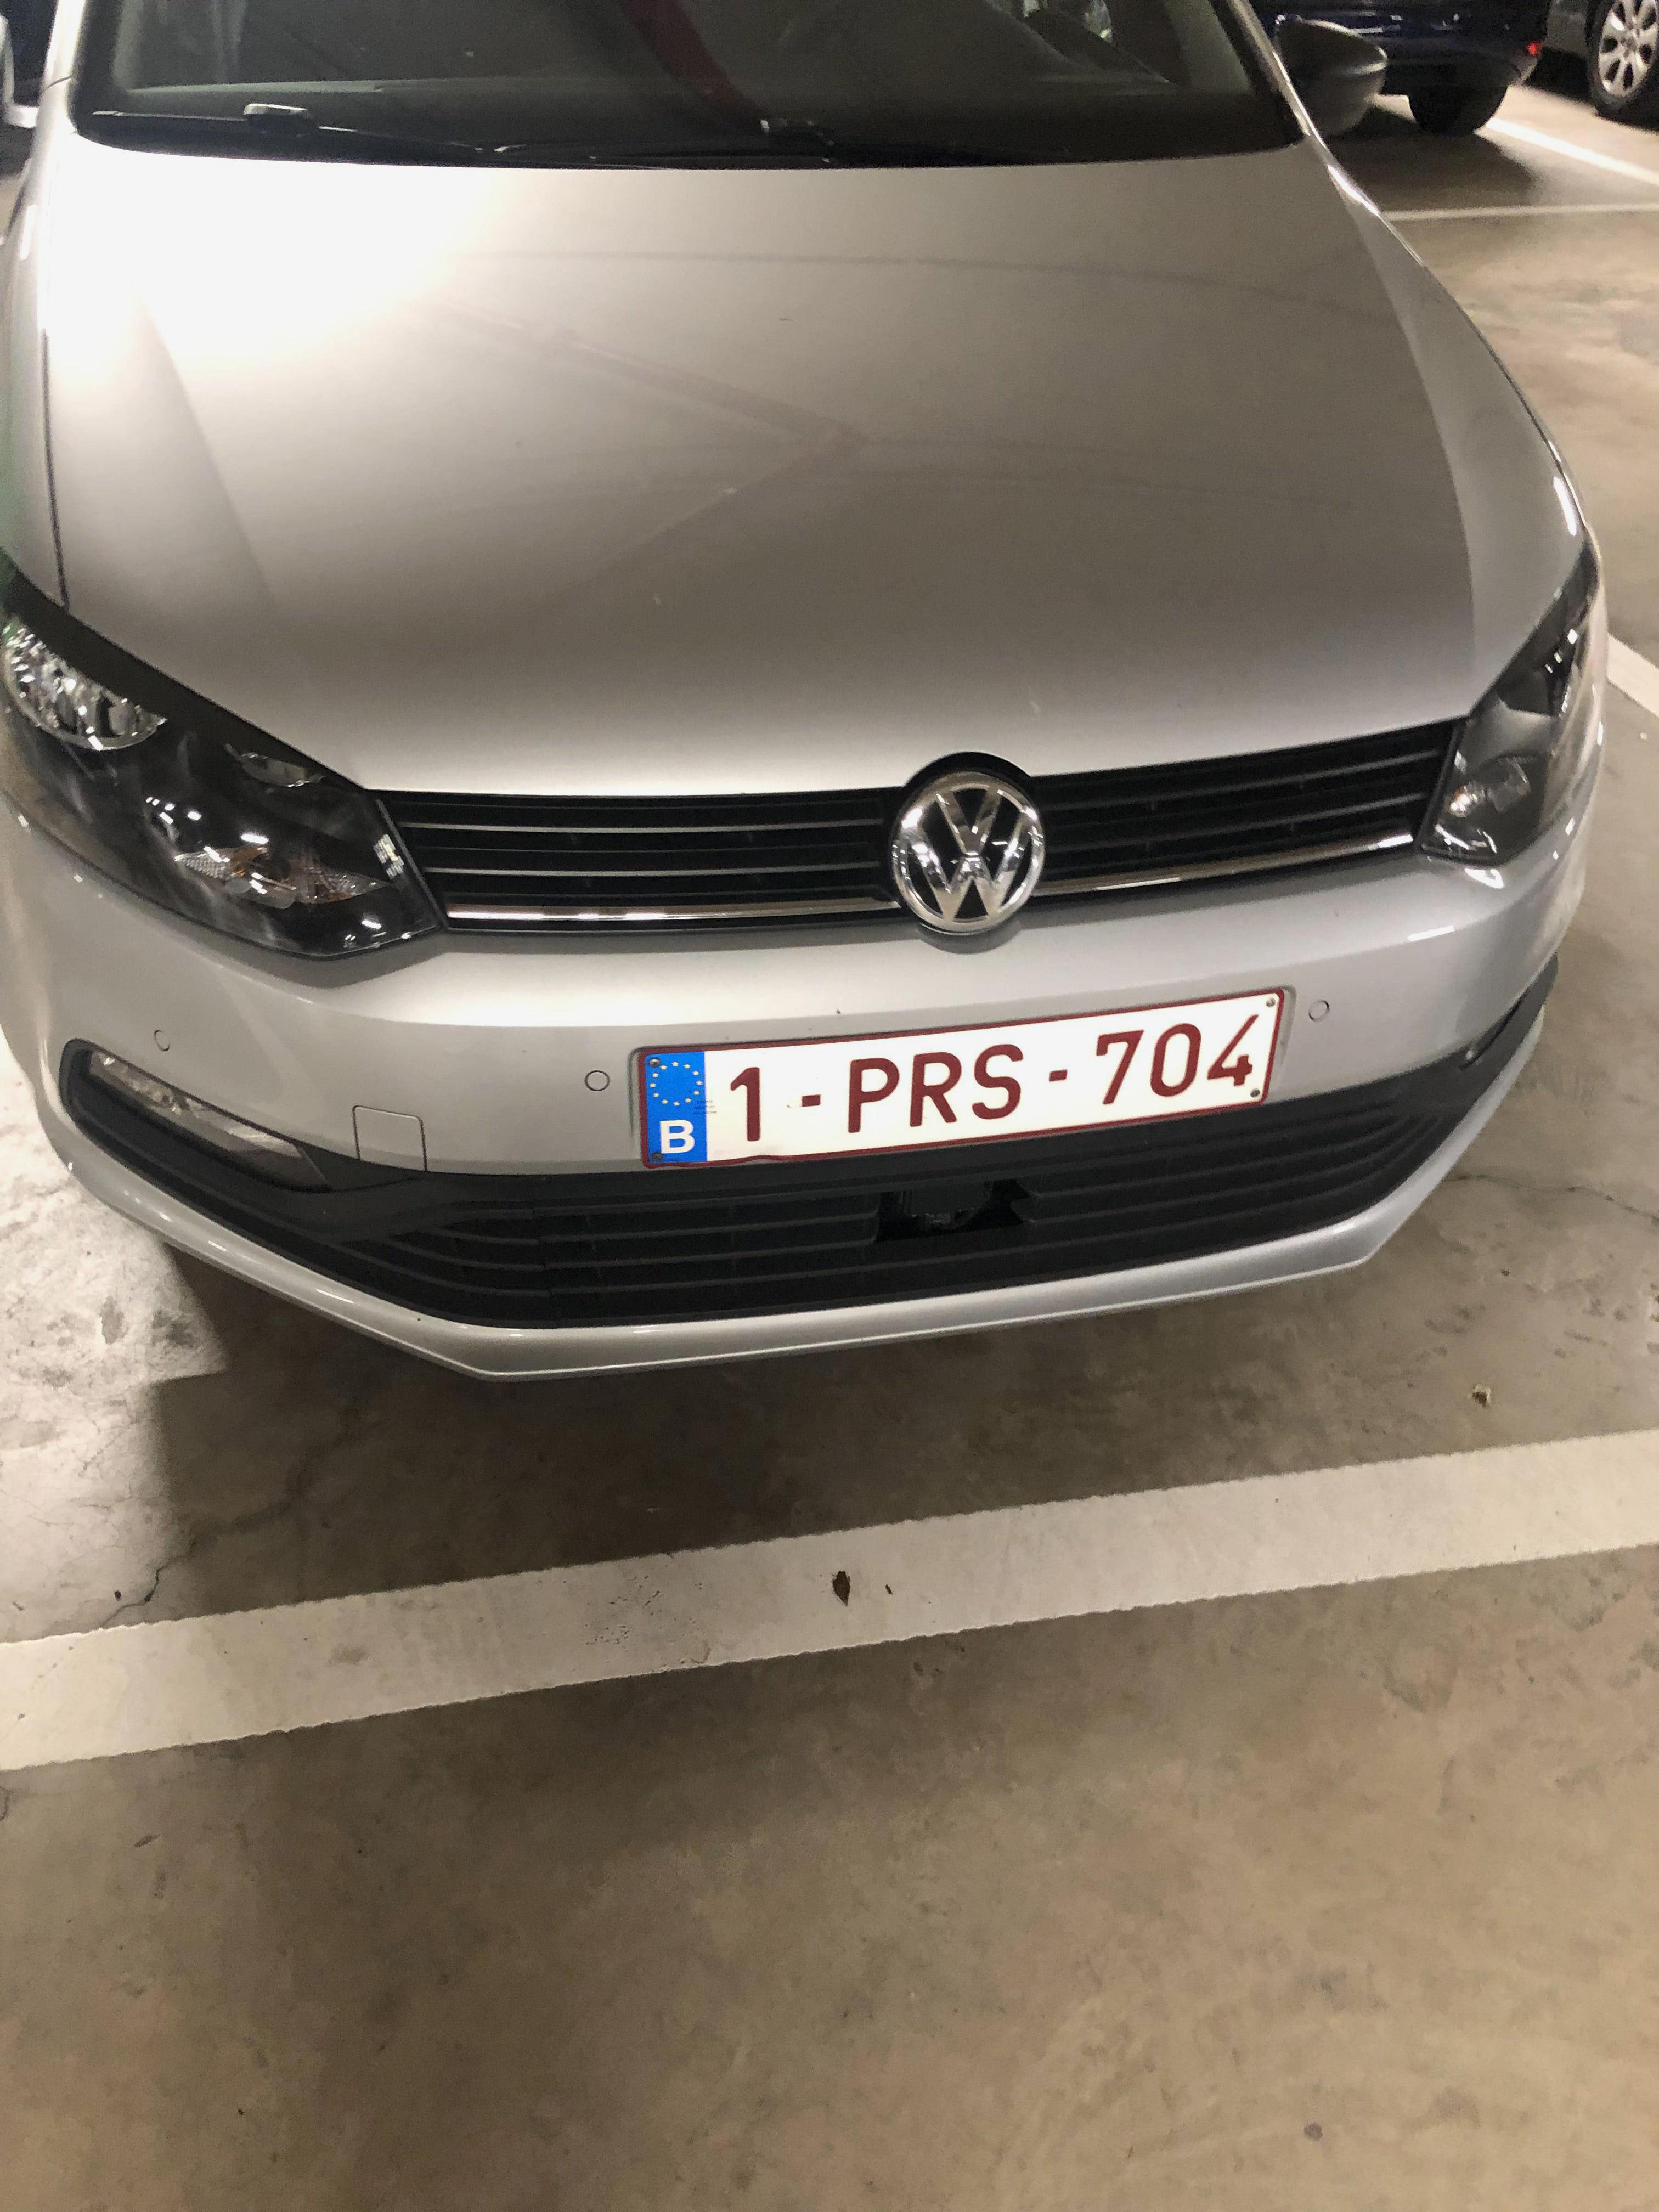plate: (357, 972, 1039, 1205)
